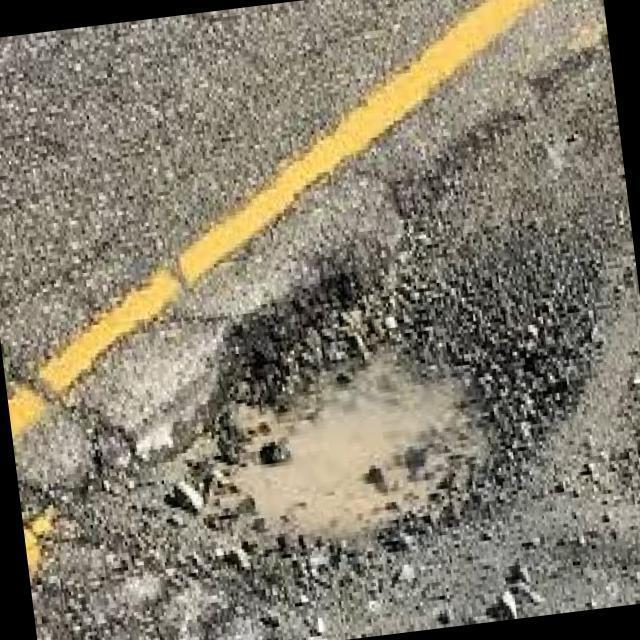Pothole: (217, 274, 595, 543)
